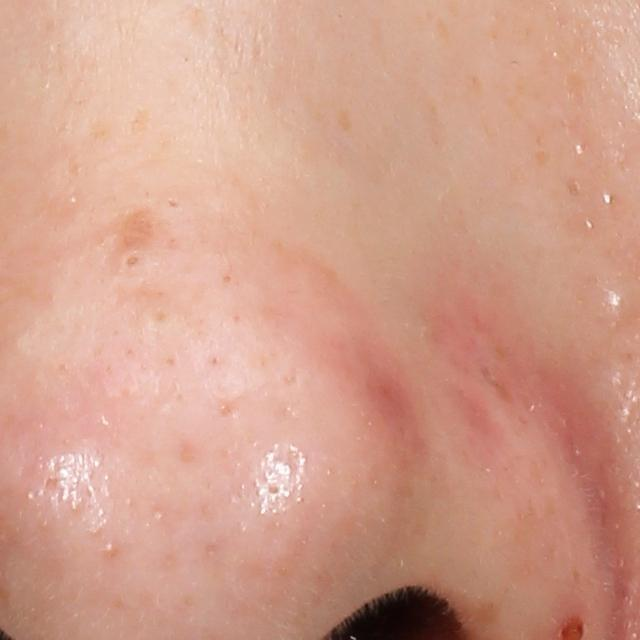comedo: (106, 243, 157, 288), (595, 280, 637, 329), (164, 195, 183, 214), (102, 539, 120, 558)
